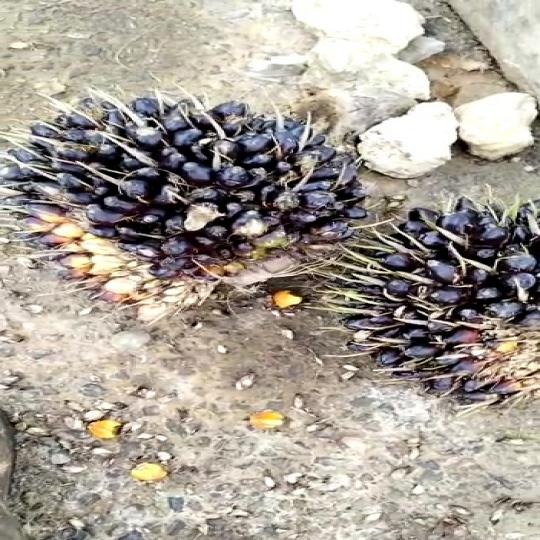mentah: (16, 70, 344, 310), (338, 197, 540, 387)
